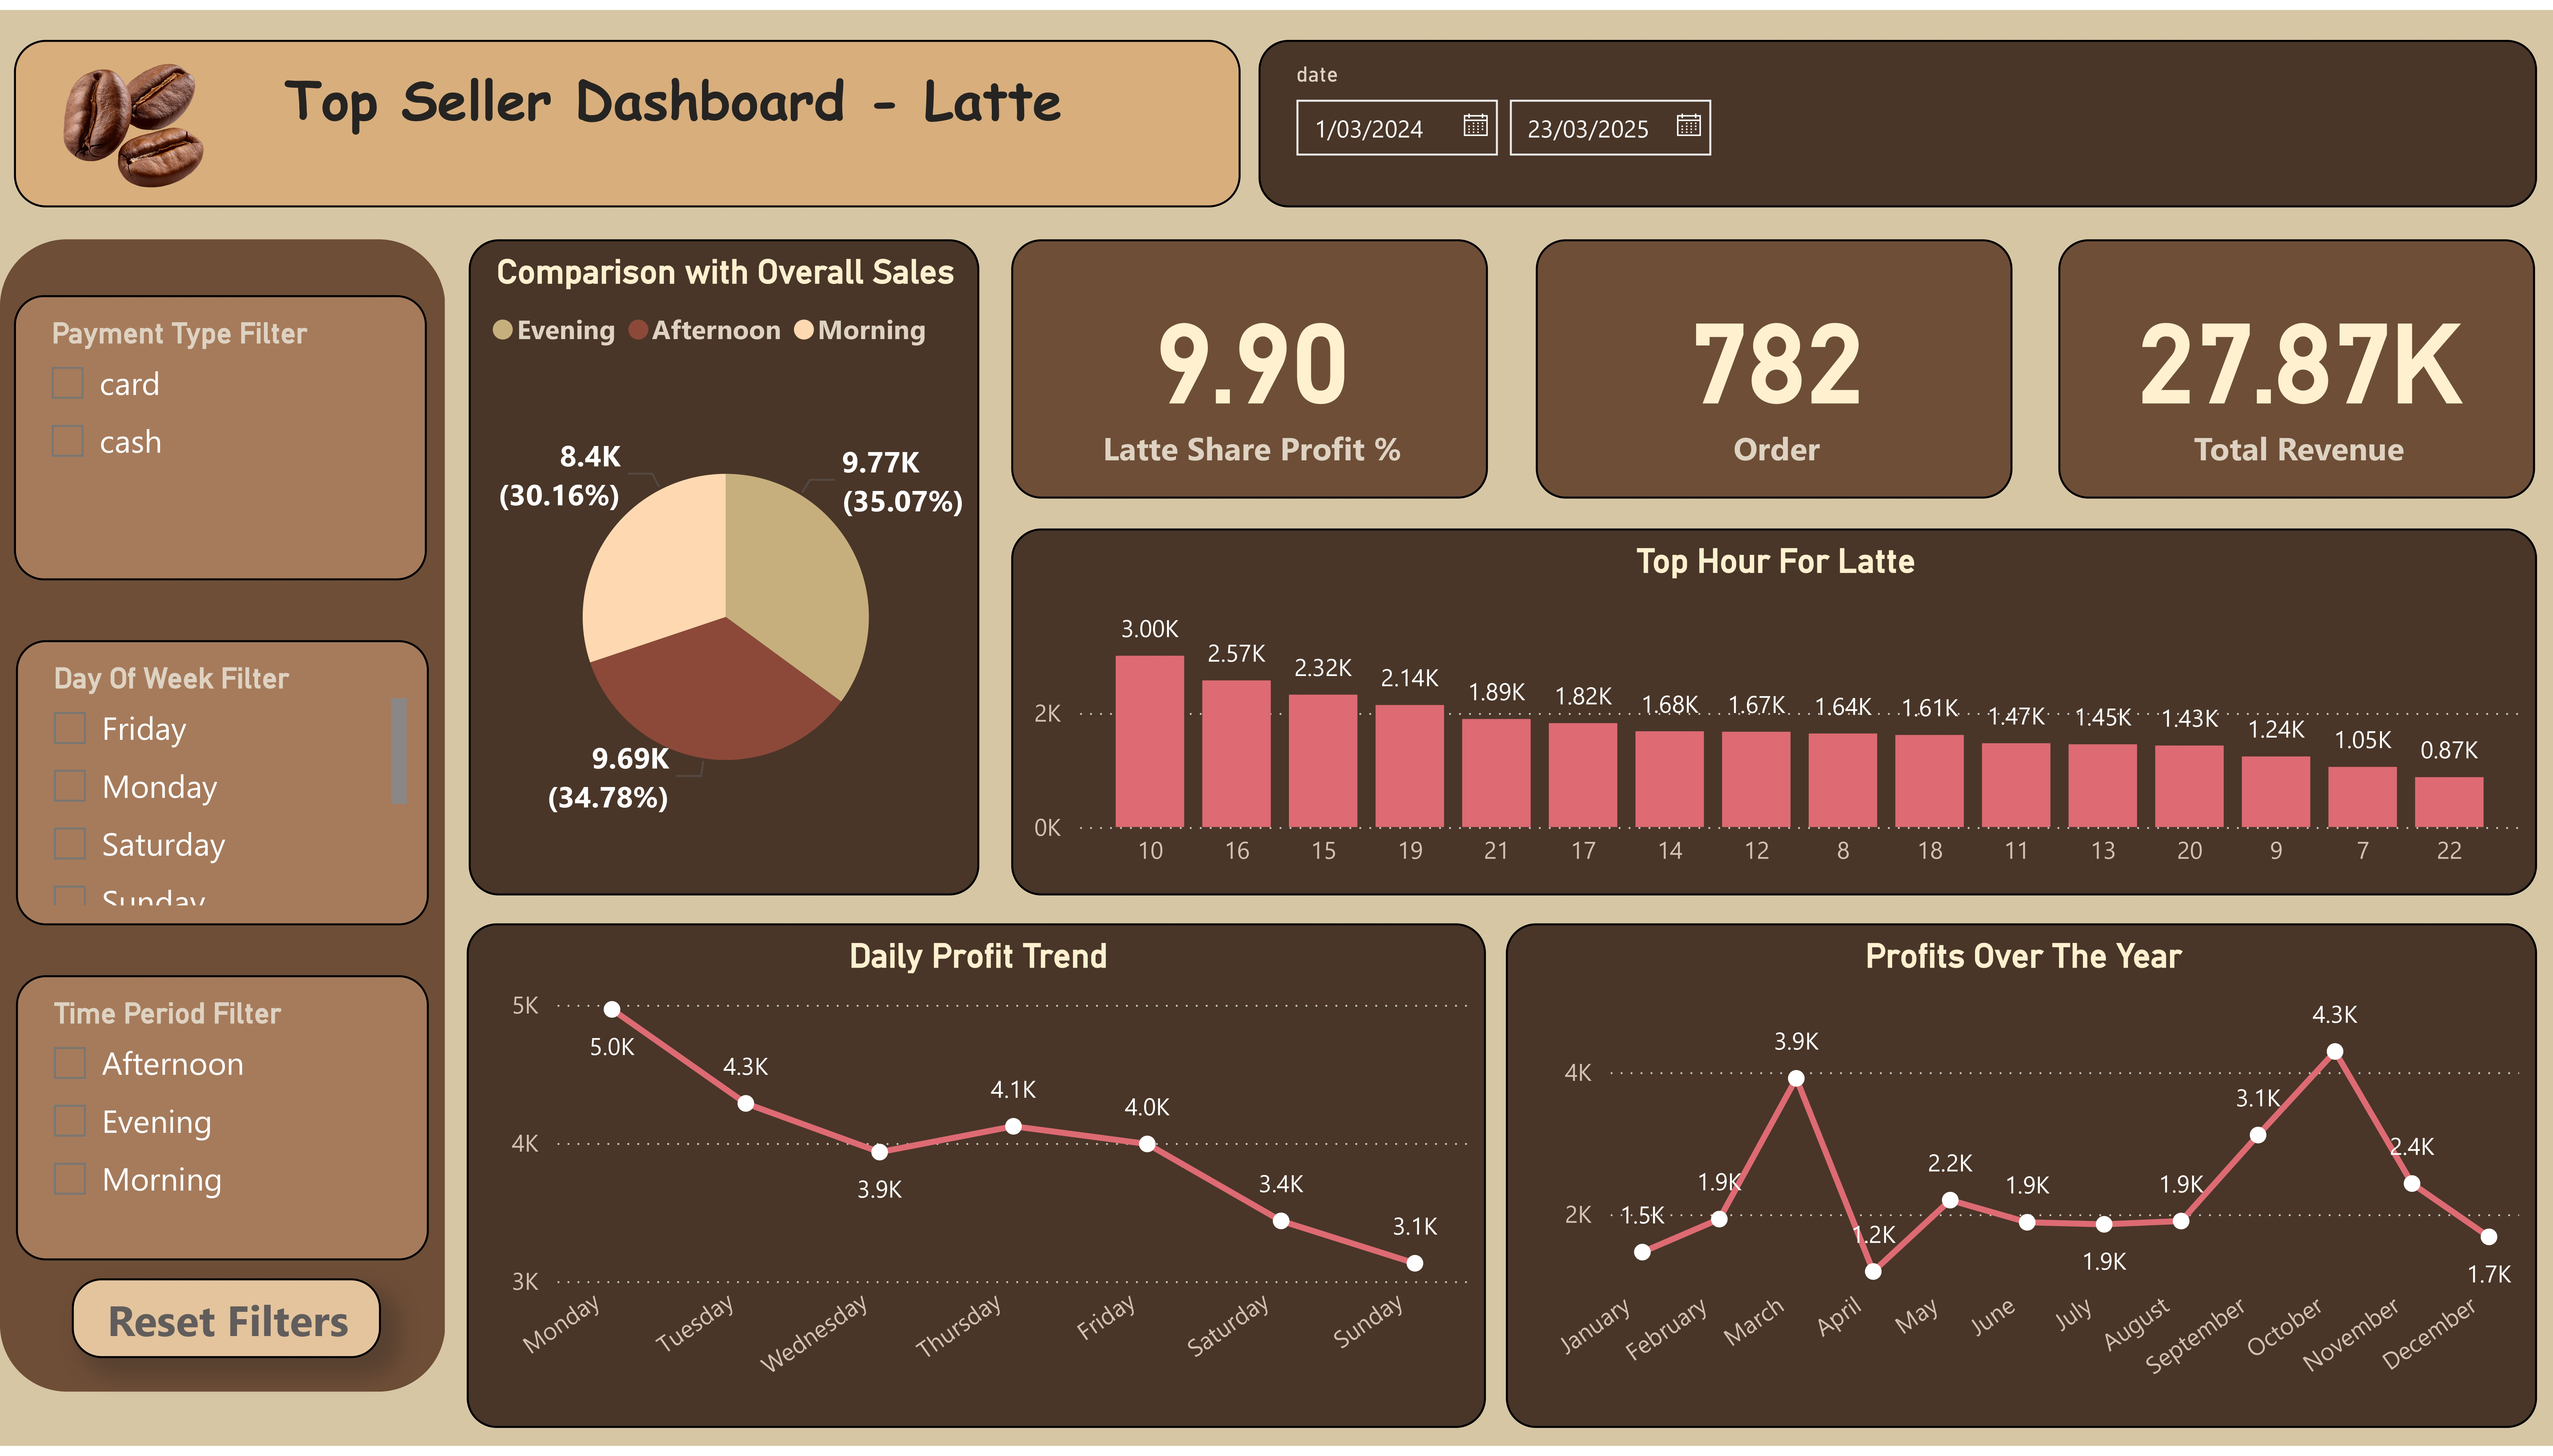

What the dashboard file says about the page in this screenshot:
{"tool":"powerbi","page":{"name":"Latte","canvas":[1280,720],"ordinal":1},"visuals":[{"type":"shape","box":[0,115.1,223.2,577.8],"z":0},{"type":"slicer","fields":{"Values":["Coffee_First_Branch.date"]},"box":[631.3,15.1,640.6,83.7],"z":1000},{"type":"textbox","box":[7,15.1,615,83.7],"z":2000},{"type":"image","box":[18.6,7,93,98.8],"z":3000},{"type":"pieChart","title":"Comparison with Overall Sales","fields":{"Category":["Coffee_First_Branch.time_period"],"Y":["Sum(Coffee_First_Branch.money)"]},"box":[234.8,115.1,255.8,329],"z":4000},{"type":"card","fields":{"Values":["Sum(Coffee_First_Branch.money)"]},"box":[1032.4,115.1,239.5,130.2],"z":5000},{"type":"card","fields":{"Values":["CountNonNull(Coffee_First_Branch.card)"]},"box":[769.6,115.1,239.5,130.2],"z":6000},{"type":"card","fields":{"Values":["Coffee_First_Branch.Lattee Profit %"]},"box":[506.9,115.1,239.5,130.2],"z":7000},{"type":"columnChart","title":"Top Hour For Latte","fields":{"Category":["Coffee_First_Branch.hour"],"Y":["Sum(Coffee_First_Branch.money)"]},"box":[506.9,260.4,765,183.7],"z":8000},{"type":"lineChart","title":"Daily Profit Trend","fields":{"Y":["Sum(Coffee_First_Branch.money)"],"Category":["Coffee_First_Branch.day_of_week"]},"box":[234.4,457.7,511.3,253.4],"z":9000},{"type":"lineChart","title":"Profits Over The Year","fields":{"Category":["Coffee_First_Branch.date.Variation.Date Hierarchy.Month"],"Y":["Sum(Coffee_First_Branch.money)"]},"box":[754.5,458.1,517.3,253.4],"z":10000},{"type":"slicer","fields":{"Values":["Coffee_First_Branch.time_period"]},"box":[8.2,484.3,207.2,142.7],"z":11000},{"type":"slicer","fields":{"Values":["Coffee_First_Branch.day_of_week"]},"box":[8.2,315.5,207.2,142.7],"z":12000},{"type":"slicer","fields":{"Values":["Coffee_First_Branch.cash_type"]},"box":[6.9,142.7,207.2,143],"z":13000},{"type":"actionButton","box":[36,636.4,154.6,39.6],"z":14000}]}

Visuals, with their boxes in screenshot pixels (x1, y1, x2, y2), scaled from the page's 1280x720 canvas onto the 2553x1456 screenshot:
shape: (left=0, top=233, right=445, bottom=1401)
slicer - Coffee_First_Branch.date: (left=1259, top=31, right=2537, bottom=200)
textbox: (left=14, top=31, right=1241, bottom=200)
image: (left=37, top=14, right=223, bottom=214)
"Comparison with Overall Sales" pieChart: (left=468, top=233, right=978, bottom=898)
card - Sum(Coffee_First_Branch.money): (left=2059, top=233, right=2537, bottom=496)
card - CountNonNull(Coffee_First_Branch.card): (left=1535, top=233, right=2013, bottom=496)
card - Coffee_First_Branch.Lattee Profit %: (left=1011, top=233, right=1489, bottom=496)
"Top Hour For Latte" columnChart: (left=1011, top=527, right=2537, bottom=898)
"Daily Profit Trend" lineChart: (left=468, top=925, right=1487, bottom=1438)
"Profits Over The Year" lineChart: (left=1505, top=926, right=2537, bottom=1439)
slicer - Coffee_First_Branch.time_period: (left=16, top=979, right=430, bottom=1268)
slicer - Coffee_First_Branch.day_of_week: (left=16, top=638, right=430, bottom=926)
slicer - Coffee_First_Branch.cash_type: (left=14, top=289, right=427, bottom=578)
actionButton: (left=72, top=1287, right=380, bottom=1367)
